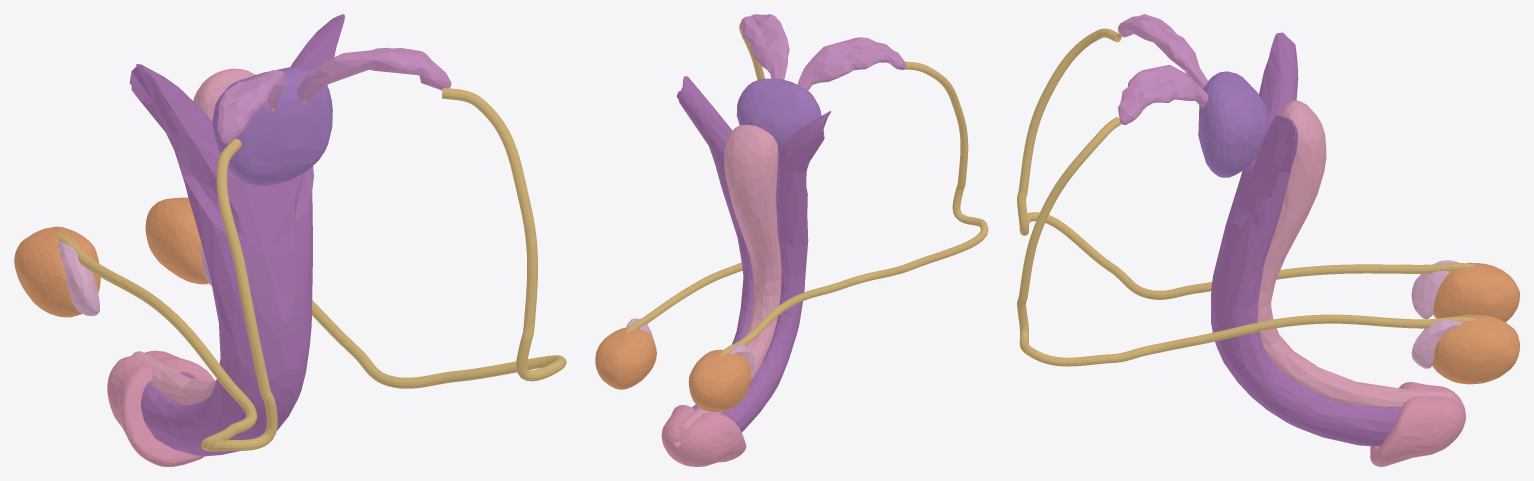
The model's file is meshopt-lossless-fb073015b493.glb.
The picture shows the model from 3 angles, left to right: view 1: azimuth 30°, elevation 25°; view 2: azimuth 150°, elevation 25°; view 3: azimuth 270°, elevation 25°; orthographic projection. The views are drawn at different scales.
Parts seen in each view (by area): view 1: 阴茎海绵体, 前列腺, 右侧输精管, 左侧输精管, 阴茎头, 右侧睾丸, 左侧睾丸, 左侧精囊, 尿道海绵体, 右侧精囊, 右侧附睾; view 2: 阴茎海绵体, 尿道海绵体, 右侧输精管, 前列腺, 阴茎头, 右侧睾丸, 左侧睾丸, 右侧精囊, 左侧精囊, 左侧输精管; view 3: 阴茎海绵体, 尿道海绵体, 左侧输精管, 右侧输精管, 前列腺, 左侧睾丸, 阴茎头, 右侧睾丸, 左侧精囊, 右侧精囊, 右侧附睾, 左侧附睾.
Part boxes in pixels (x1,y1,x2,y2): 阴茎海绵体: [129, 14, 344, 456]; 前列腺: [212, 66, 332, 185]; 右侧输精管: [55, 138, 277, 451]; 左侧输精管: [188, 88, 566, 388]; 阴茎头: [107, 350, 214, 466]; 右侧睾丸: [14, 226, 100, 317]; 左侧睾丸: [145, 197, 208, 284]; 左侧精囊: [297, 47, 451, 101]; 尿道海绵体: [131, 68, 255, 404]; 右侧精囊: [217, 70, 287, 143]; 右侧附睾: [57, 242, 99, 315]; 阴茎海绵体: [676, 76, 830, 432]; 尿道海绵体: [679, 124, 781, 430]; 右侧输精管: [719, 61, 988, 355]; 前列腺: [736, 78, 821, 153]; 阴茎头: [661, 405, 746, 466]; 右侧睾丸: [688, 349, 750, 411]; 左侧睾丸: [595, 327, 656, 389]; 右侧精囊: [797, 37, 906, 90]; 左侧精囊: [739, 14, 789, 79]; 左侧输精管: [625, 23, 764, 332]; 阴茎海绵体: [1211, 32, 1401, 446]; 尿道海绵体: [1257, 100, 1455, 406]; 左侧输精管: [1017, 117, 1476, 366]; 右侧输精管: [1017, 28, 1476, 299]; 前列腺: [1198, 71, 1269, 177]; 左侧睾丸: [1432, 314, 1519, 384]; 阴茎头: [1370, 382, 1465, 466]; 右侧睾丸: [1433, 262, 1519, 322]; 左侧精囊: [1118, 64, 1208, 124]; 右侧精囊: [1118, 14, 1207, 88]; 右侧附睾: [1411, 260, 1457, 319]; 左侧附睾: [1411, 319, 1462, 368].
Bounding box in the file's own units: 0.6788 × 0.9125 × 1.
